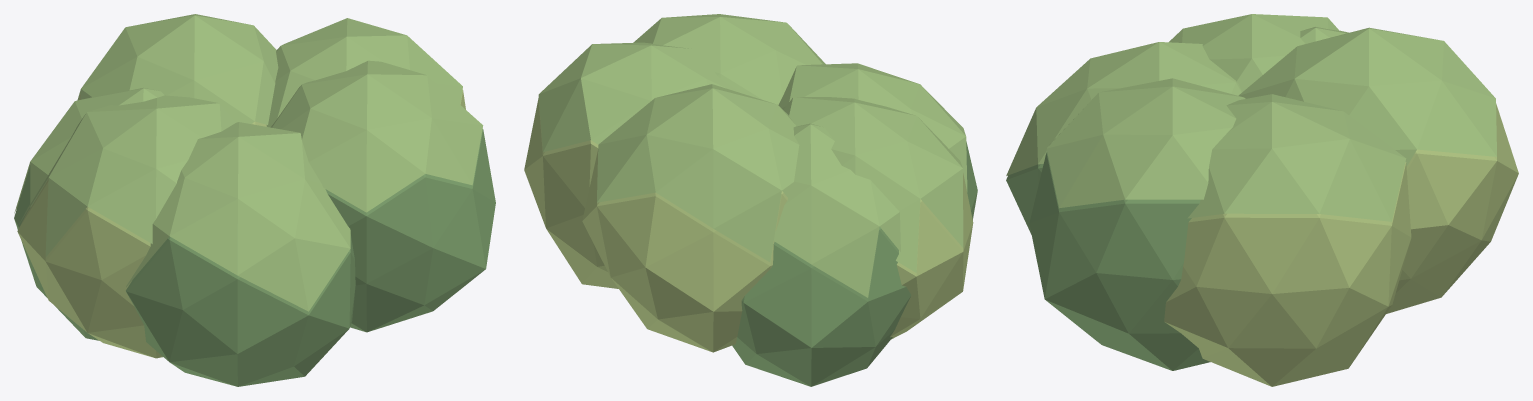
File: plant-bush-mossy.glb
3 views of the same model, side by side, from view 1: azimuth 30°, elevation 25°; view 2: azimuth 150°, elevation 25°; view 3: azimuth 270°, elevation 25° (orthographic). The views are drawn at different scales.
Parts seen in each view (by area): view 1: plant-bush-kit-mossy-top, plant-bush-kit-mossy-green, plant-bush-kit-mossy-leaf; view 2: plant-bush-kit-mossy-top, plant-bush-kit-mossy-leaf, plant-bush-kit-mossy-green; view 3: plant-bush-kit-mossy-top, plant-bush-kit-mossy-leaf, plant-bush-kit-mossy-green.
Boxes of the visible parts, box(x1,y1,x2,y2) form: plant-bush-kit-mossy-top: box(14, 14, 483, 311); plant-bush-kit-mossy-green: box(14, 129, 495, 386); plant-bush-kit-mossy-leaf: box(17, 90, 465, 358); plant-bush-kit-mossy-top: box(538, 14, 967, 297); plant-bush-kit-mossy-leaf: box(524, 98, 973, 352); plant-bush-kit-mossy-green: box(732, 141, 977, 386); plant-bush-kit-mossy-top: box(1006, 14, 1496, 221); plant-bush-kit-mossy-leaf: box(1164, 103, 1518, 386); plant-bush-kit-mossy-green: box(1006, 152, 1210, 370).
Size of the model in its own units: 1.79 by 1.16 by 1.75.
